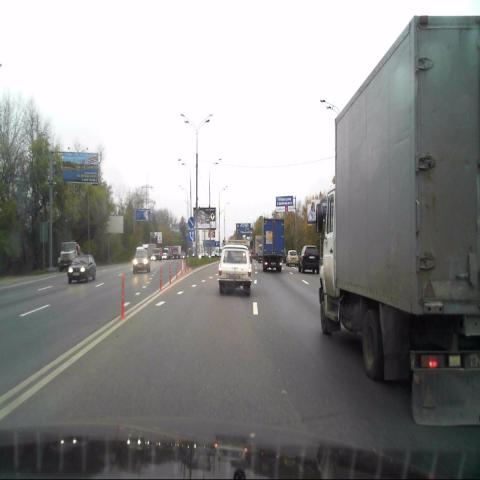4_2_1: (188, 216, 195, 229)
5_15_3: (188, 230, 195, 242)
